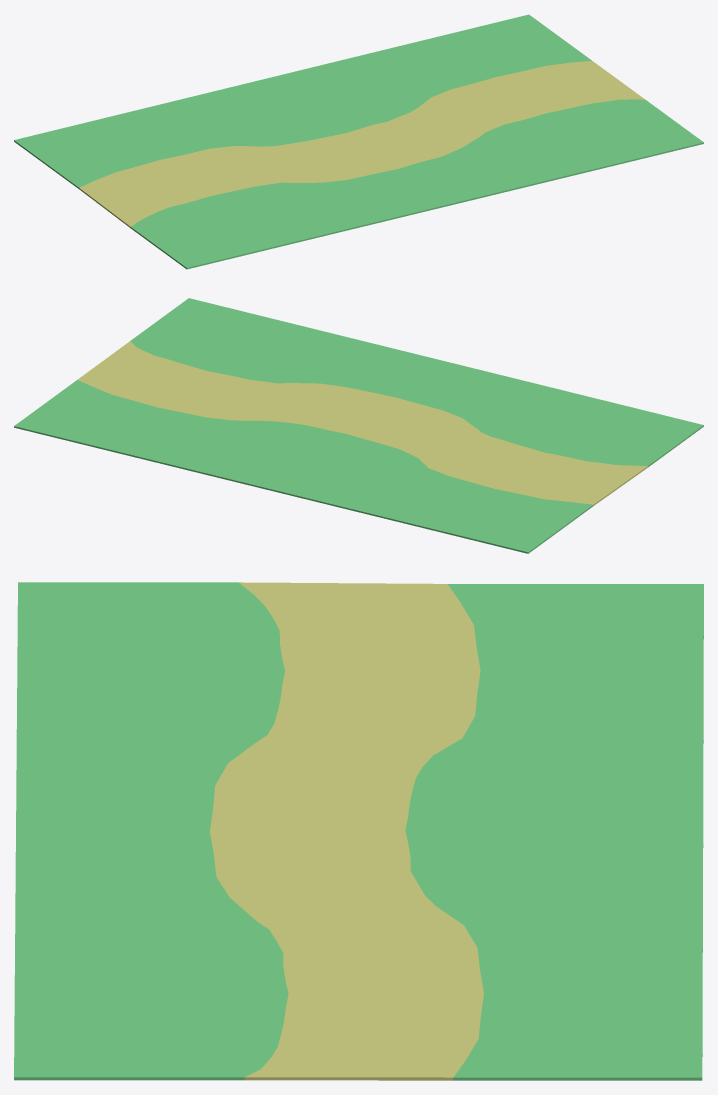
File: Land.fbx
3 views of the same model, one above another, from view 1: azimuth 30°, elevation 25°; view 2: azimuth 150°, elevation 25°; view 3: azimuth 270°, elevation 25° (orthographic). The views are drawn at different scales.
Visible parts, largest first — view 1: Torus; view 2: Torus; view 3: Torus.
Part boxes in pixels (x1,y1,x2,y2): Torus: (14,14,703,269); Torus: (14,298,703,553); Torus: (14,582,703,1080).
Bounding box in the file's own units: 1001 × 4.23 × 589.
